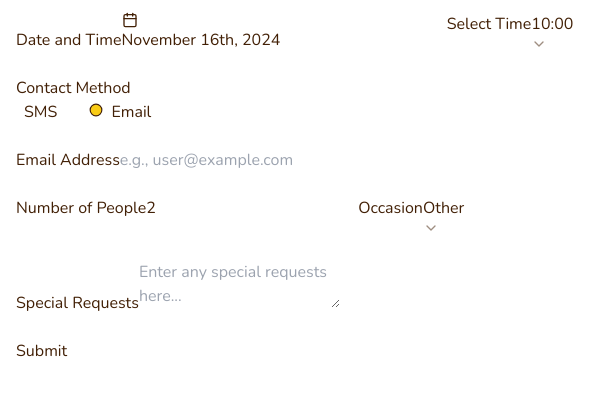
Test: BookingForm › shows email error when email is invalid
Click the radio button named "Email".
click(96, 110)  # box [89,103,103,117]
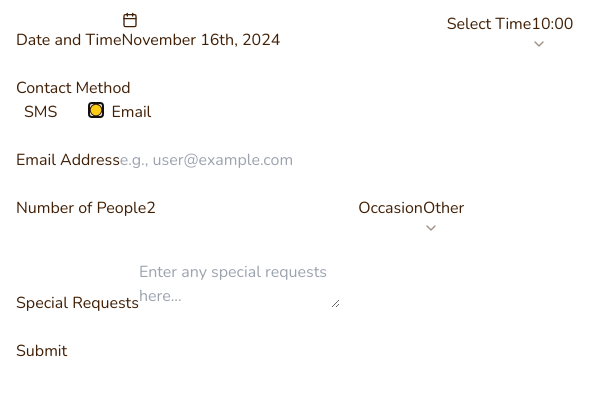
Type "invalid-email" into the field with placeholder "e.g., user@example.com".
click(222, 160); type("invalid-email")  # box [120,148,324,172]
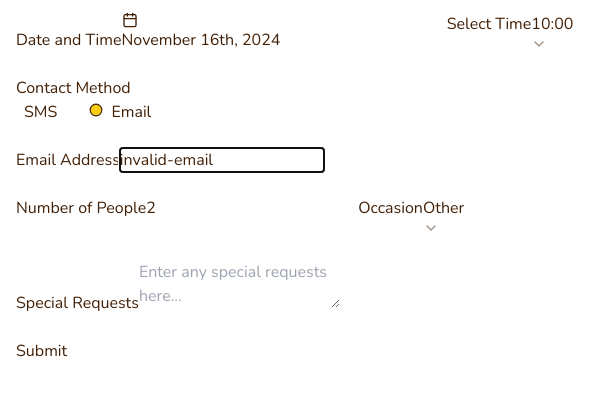
Click the button "Submit".
click(42, 351)  # box [16,339,67,363]
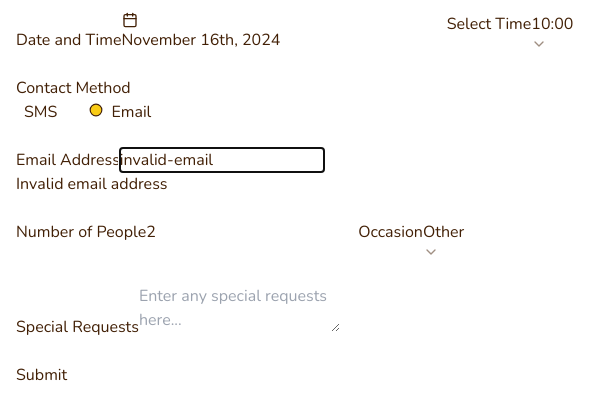
Now the text "Invalid email address" is shown, box [16,173,168,195]
